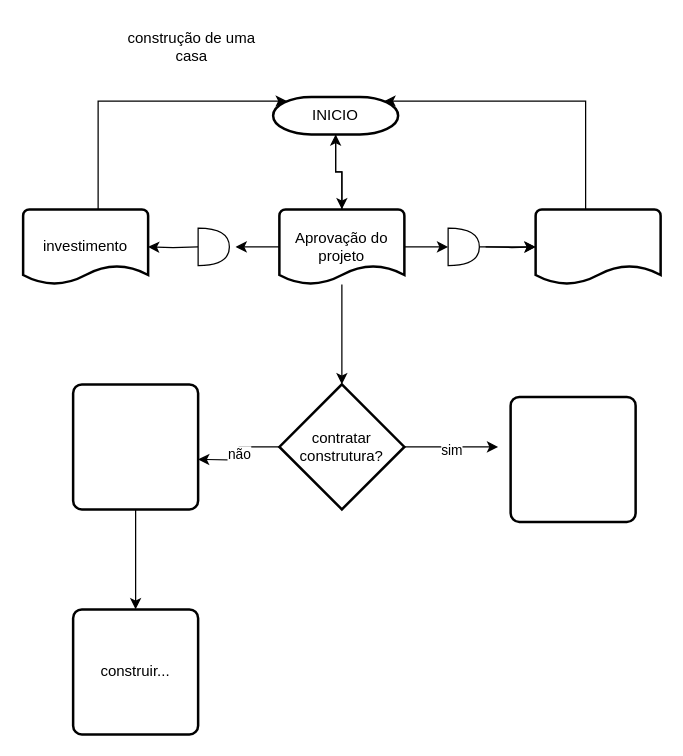
This 683x756 diagram has some shape labels left out. The shapes that lost their labels are listed below. From the top down, each one's centre as x and y in pixels, then its label:
At point 597,246: "terreno".
At point 135,446: "Contratra um mestre de obras".
At point 572,458: "contruindo...".
